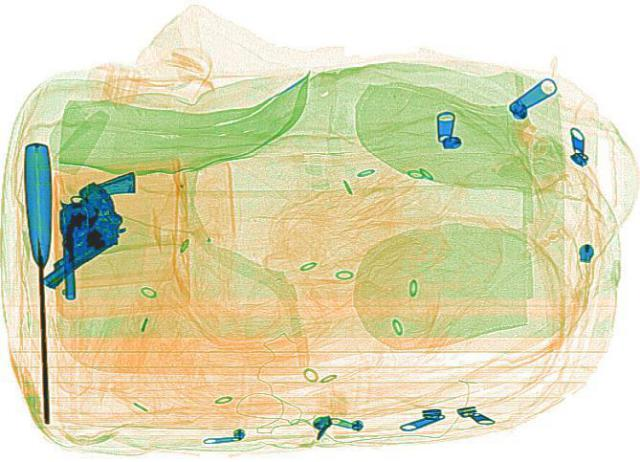Gun: (0, 178, 151, 279), (54, 169, 136, 299)
Knife: (22, 141, 56, 421)
